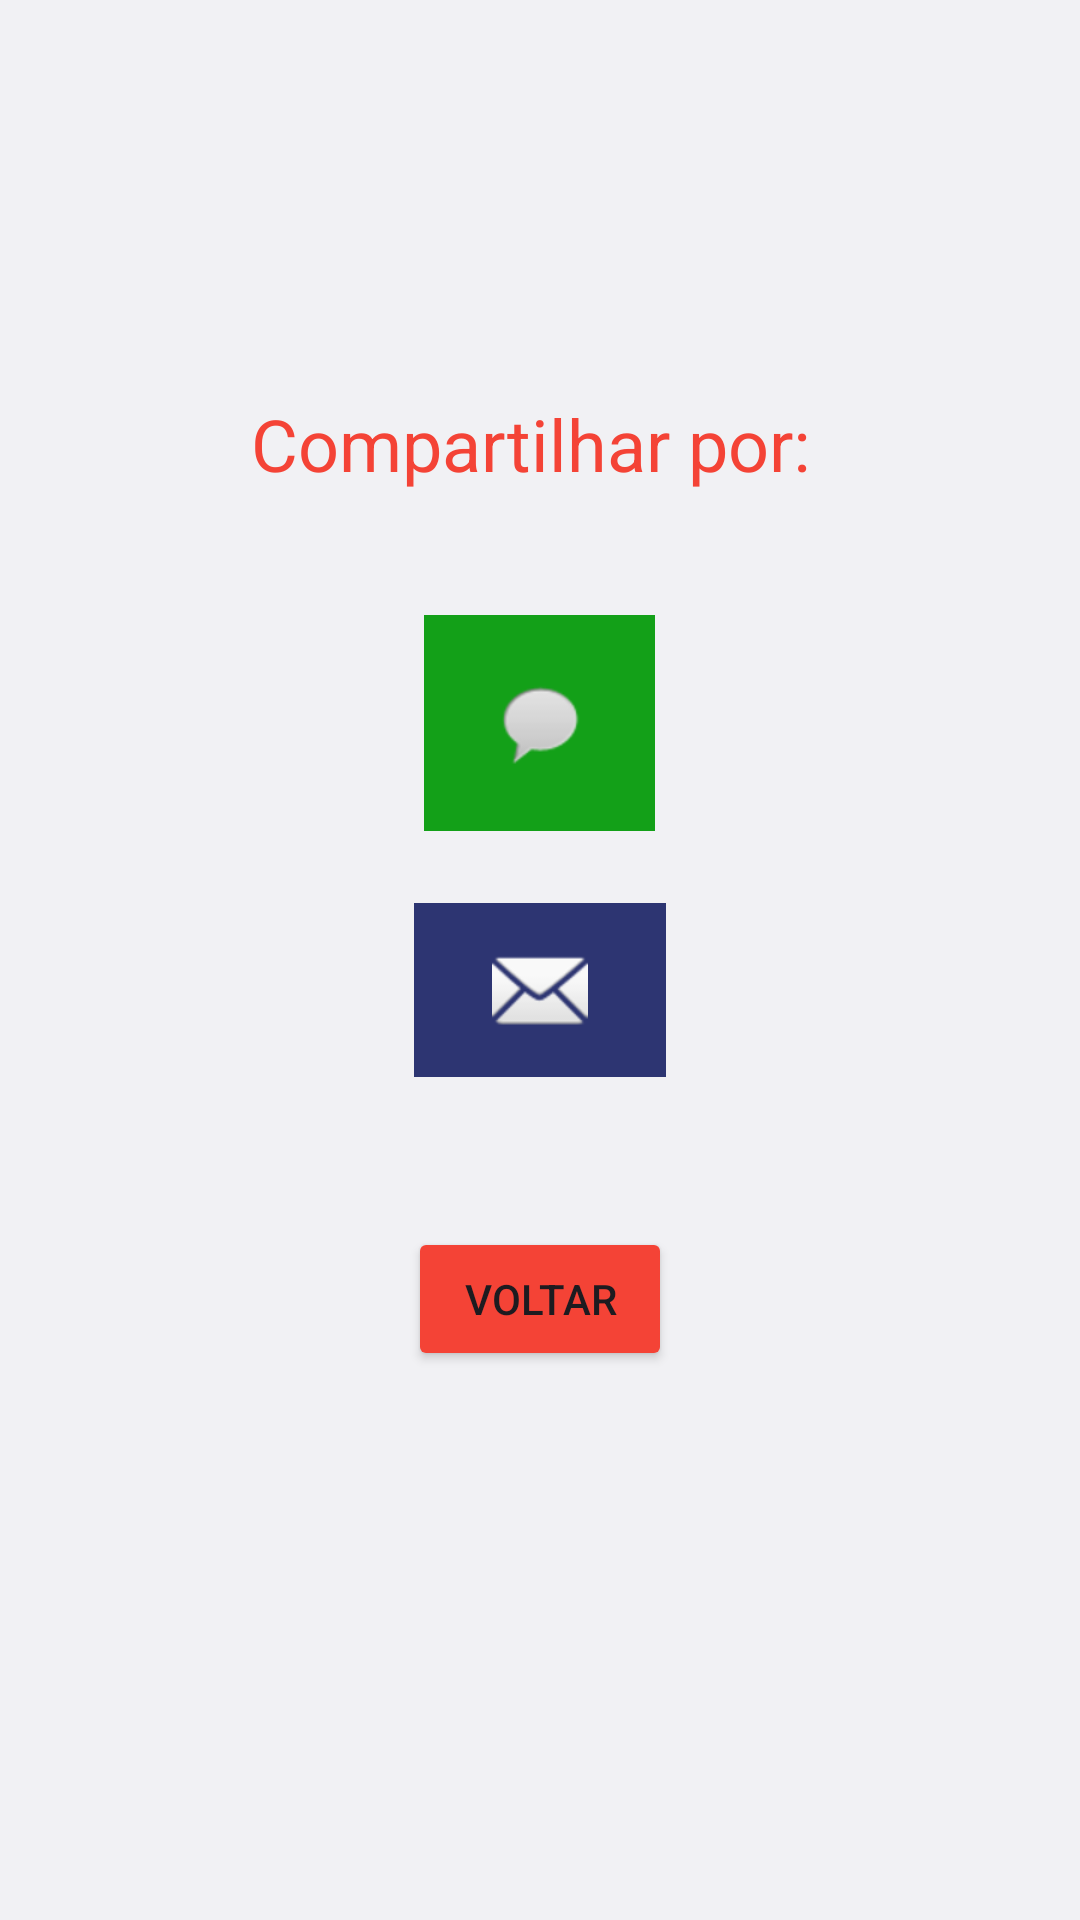

Icons on this 1080px×1920px Android screen, each with its box as [x1,y1,x2,y2]:
Compartilhar por E-mail: [414,903,666,1077]
